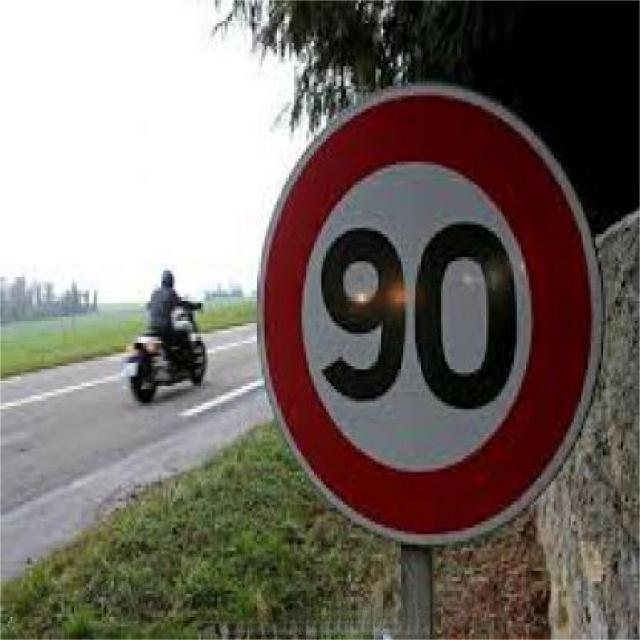speed limit 90: (254, 86, 605, 548)
